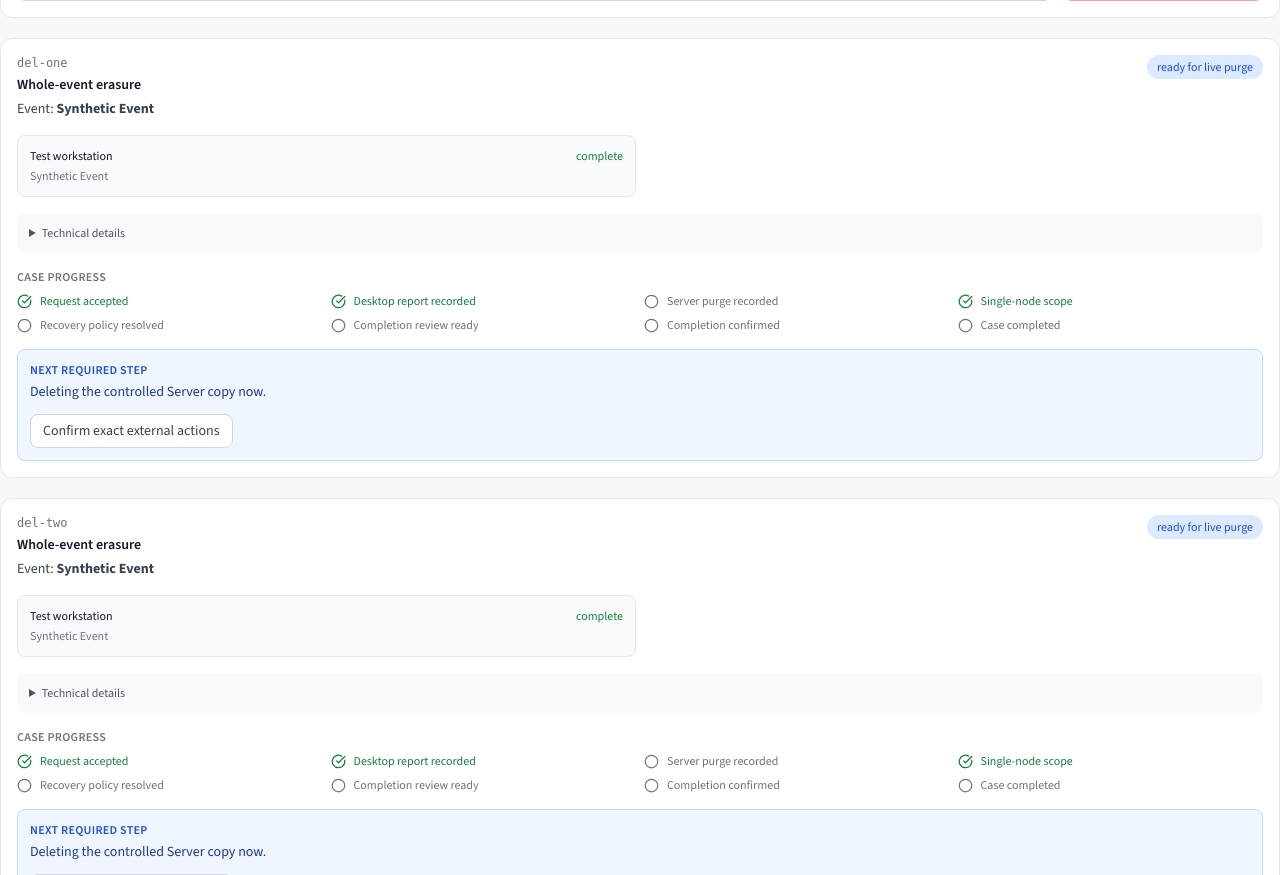
ComplianceEvidenceTab › shows a busy state only on the deletion-case button that was clicked
(page scrolled)
Click the 1st button "Confirm exact external actions" at (131, 431), box [30,414,233,448]
(page scrolled)
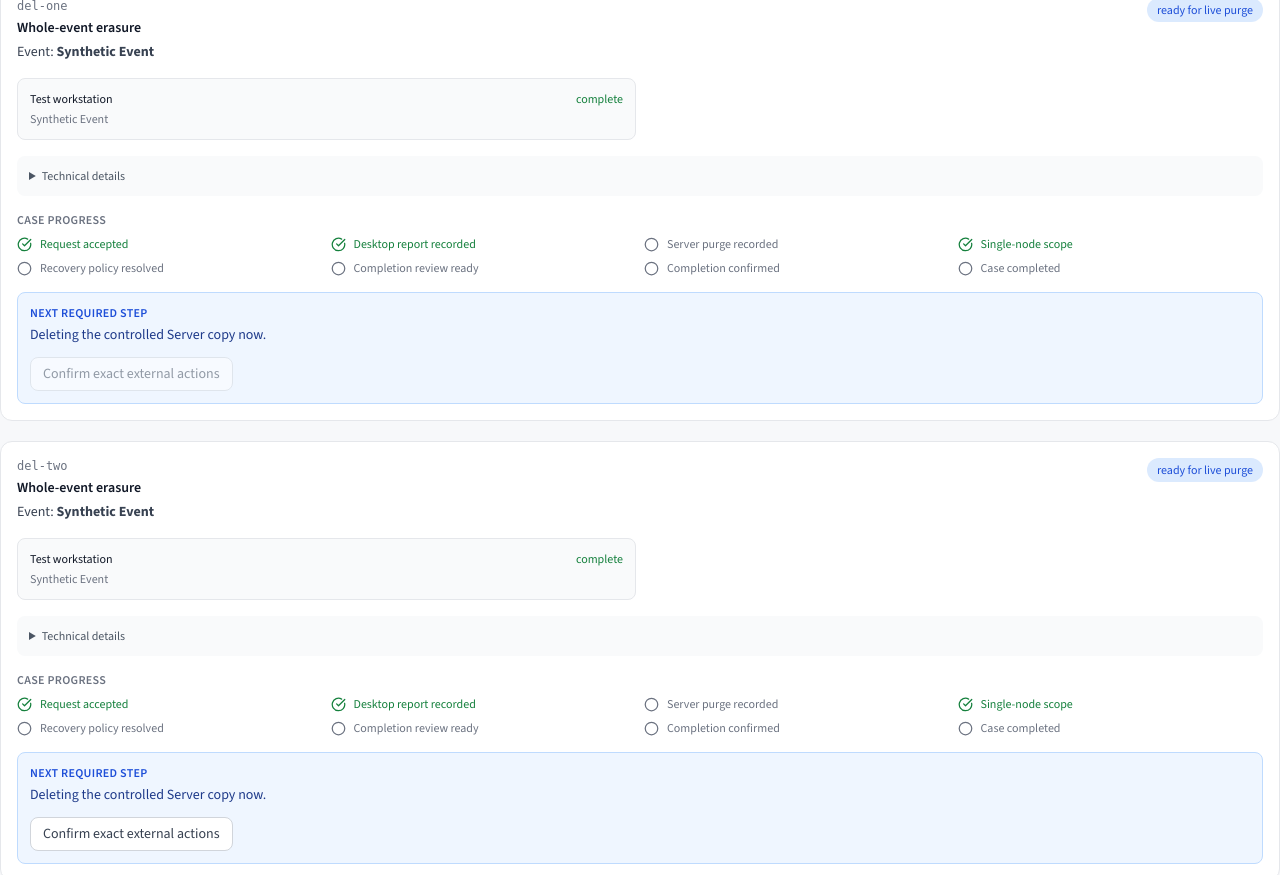
Result: the 1st button "Confirm exact external actions" is disabled at [30,357,233,391]
Result: the 2nd button "Confirm exact external actions" is enabled
Click the 2nd button "Confirm exact external actions" at (131, 834), box [30,817,233,851]
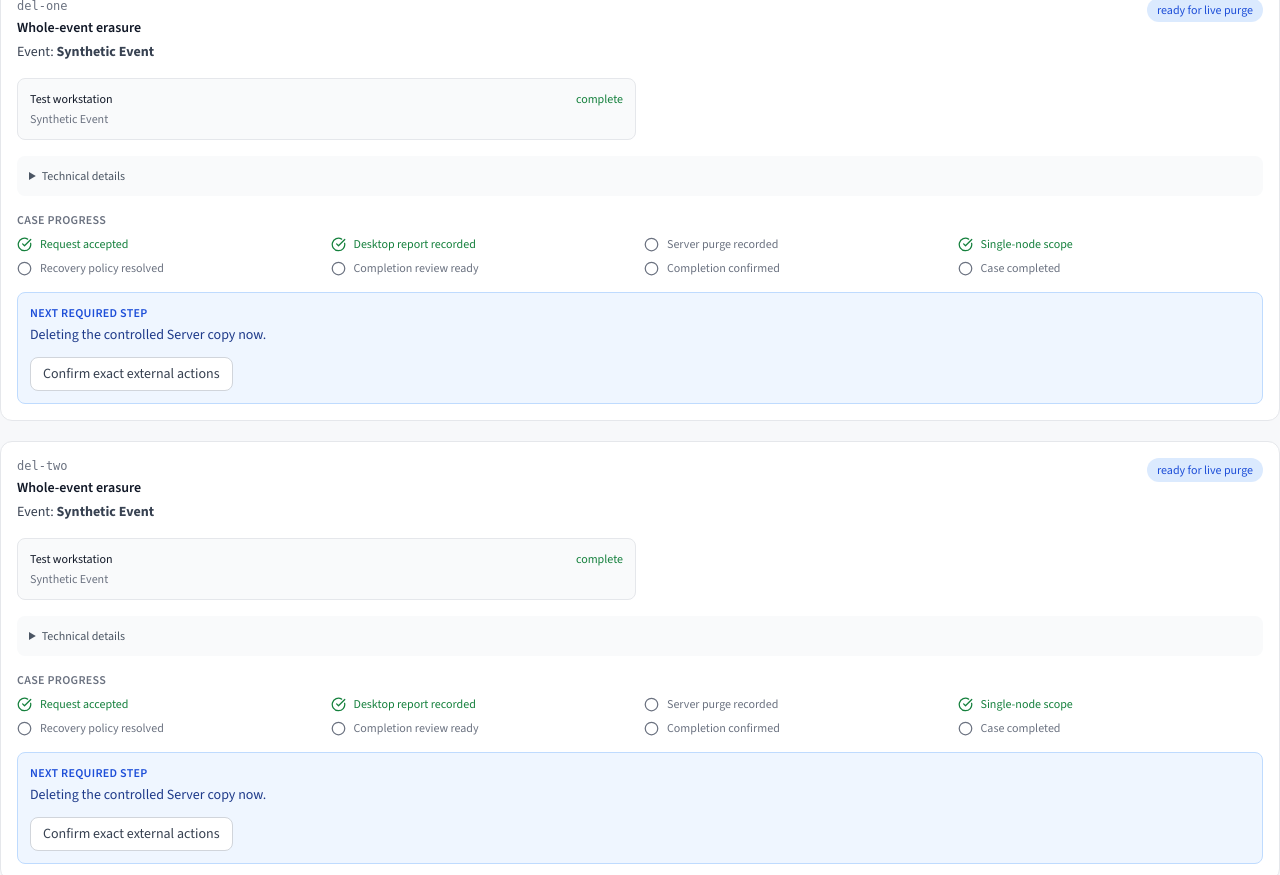
Result: the 1st button "Confirm exact external actions" is enabled at [30,357,233,391]
